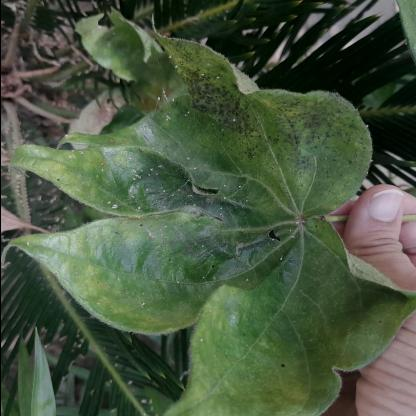curl_stage1: (184, 285, 318, 415), (59, 221, 181, 331), (18, 139, 141, 219), (316, 272, 378, 358), (95, 19, 153, 87), (160, 196, 232, 245), (258, 170, 348, 208), (298, 219, 354, 275)
sooty: (264, 94, 368, 172), (186, 58, 261, 158)
